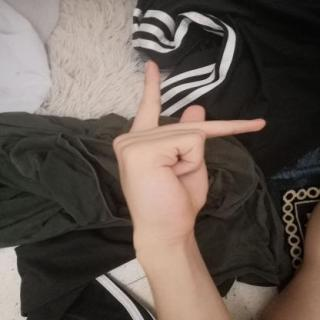DHAA: (103, 53, 274, 246)
